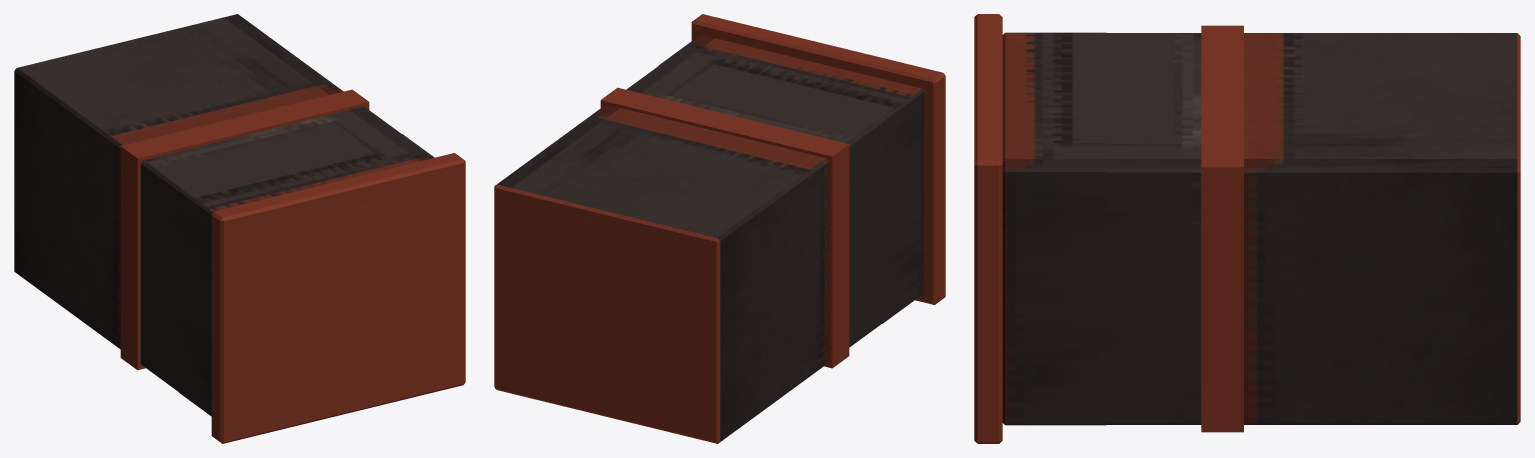
The model's file is pz_trashbin_pizza.obj.
3 renders of one model, left to right at view 1: azimuth 30°, elevation 25°; view 2: azimuth 150°, elevation 25°; view 3: azimuth 270°, elevation 25°, orthographic. The views are drawn at different scales.
Visible parts, largest first — view 1: pz_trashbin_pizza_|_native_square_bin_cabinet, pz_trashbin_pizza_|_native_projecting_cover, pz_trashbin_pizza_|_upper_waste_door, pz_trashbin_pizza_|_colored_middle_band; view 2: pz_trashbin_pizza_|_native_square_bin_cabinet, pz_trashbin_pizza_|_upper_waste_door, pz_trashbin_pizza_|_native_projecting_cover, pz_trashbin_pizza_|_colored_middle_band; view 3: pz_trashbin_pizza_|_native_square_bin_cabinet, pz_trashbin_pizza_|_upper_waste_door, pz_trashbin_pizza_|_colored_middle_band, pz_trashbin_pizza_|_native_projecting_cover.
Part boxes in pixels (x1=…): pz_trashbin_pizza_|_native_square_bin_cabinet: x1=14, y1=14, x2=401, y2=391; pz_trashbin_pizza_|_native_projecting_cover: x1=211, y1=153, x2=465, y2=443; pz_trashbin_pizza_|_upper_waste_door: x1=178, y1=134, x2=434, y2=416; pz_trashbin_pizza_|_colored_middle_band: x1=120, y1=89, x2=369, y2=370; pz_trashbin_pizza_|_native_square_bin_cabinet: x1=494, y1=64, x2=884, y2=443; pz_trashbin_pizza_|_upper_waste_door: x1=658, y1=34, x2=924, y2=323; pz_trashbin_pizza_|_native_projecting_cover: x1=691, y1=14, x2=945, y2=304; pz_trashbin_pizza_|_colored_middle_band: x1=600, y1=87, x2=849, y2=368; pz_trashbin_pizza_|_native_square_bin_cabinet: x1=1105, y1=33, x2=1520, y2=424; pz_trashbin_pizza_|_upper_waste_door: x1=1002, y1=32, x2=1106, y2=425; pz_trashbin_pizza_|_colored_middle_band: x1=1201, y1=25, x2=1243, y2=432; pz_trashbin_pizza_|_native_projecting_cover: x1=974, y1=14, x2=1002, y2=443.
Size of the model in its own units: 0.5 by 0.44 by 0.77.
3 materials, 3 textured.
